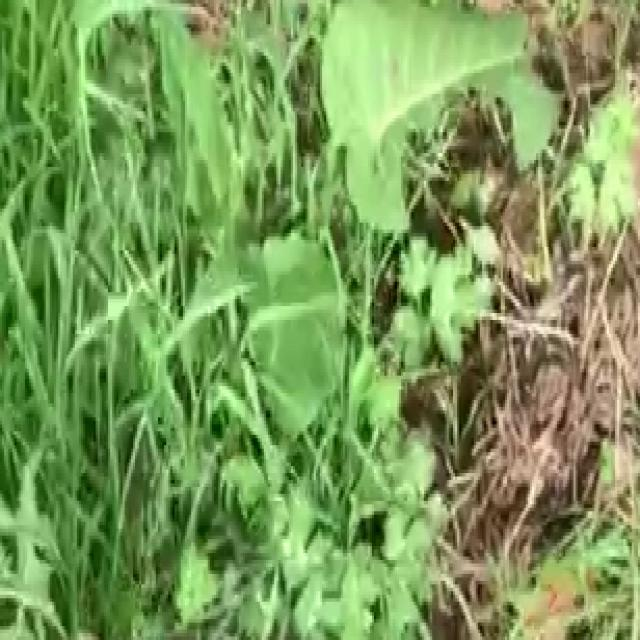organic waste: (143, 0, 602, 501)
